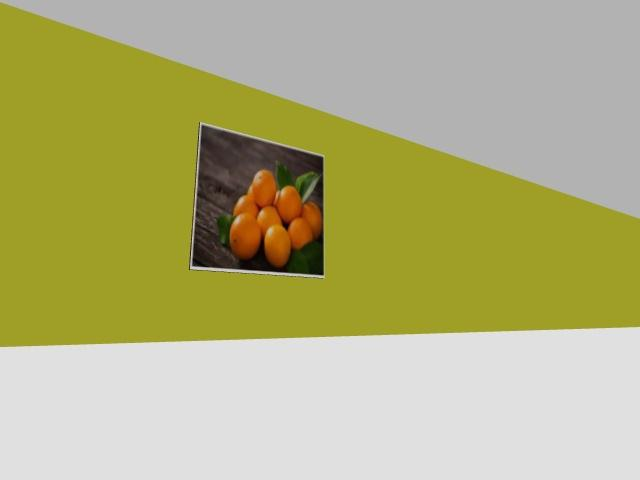orange: (229, 213, 261, 259), (264, 224, 290, 267), (251, 170, 276, 206), (277, 186, 301, 223), (301, 201, 322, 239), (288, 217, 312, 249), (257, 206, 281, 237), (233, 195, 258, 217), (246, 185, 255, 201), (273, 190, 279, 206)
